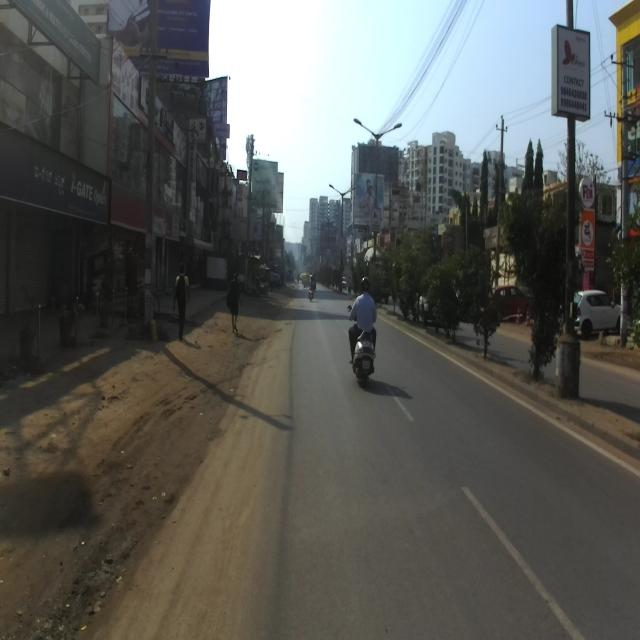scooter: (347, 303, 377, 387)
